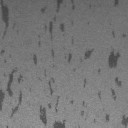red iron: (32, 0, 76, 64), (0, 0, 24, 117), (39, 77, 85, 128), (98, 48, 123, 100), (67, 48, 96, 72), (105, 112, 128, 128), (112, 30, 126, 38), (112, 0, 120, 7), (83, 77, 87, 87)
